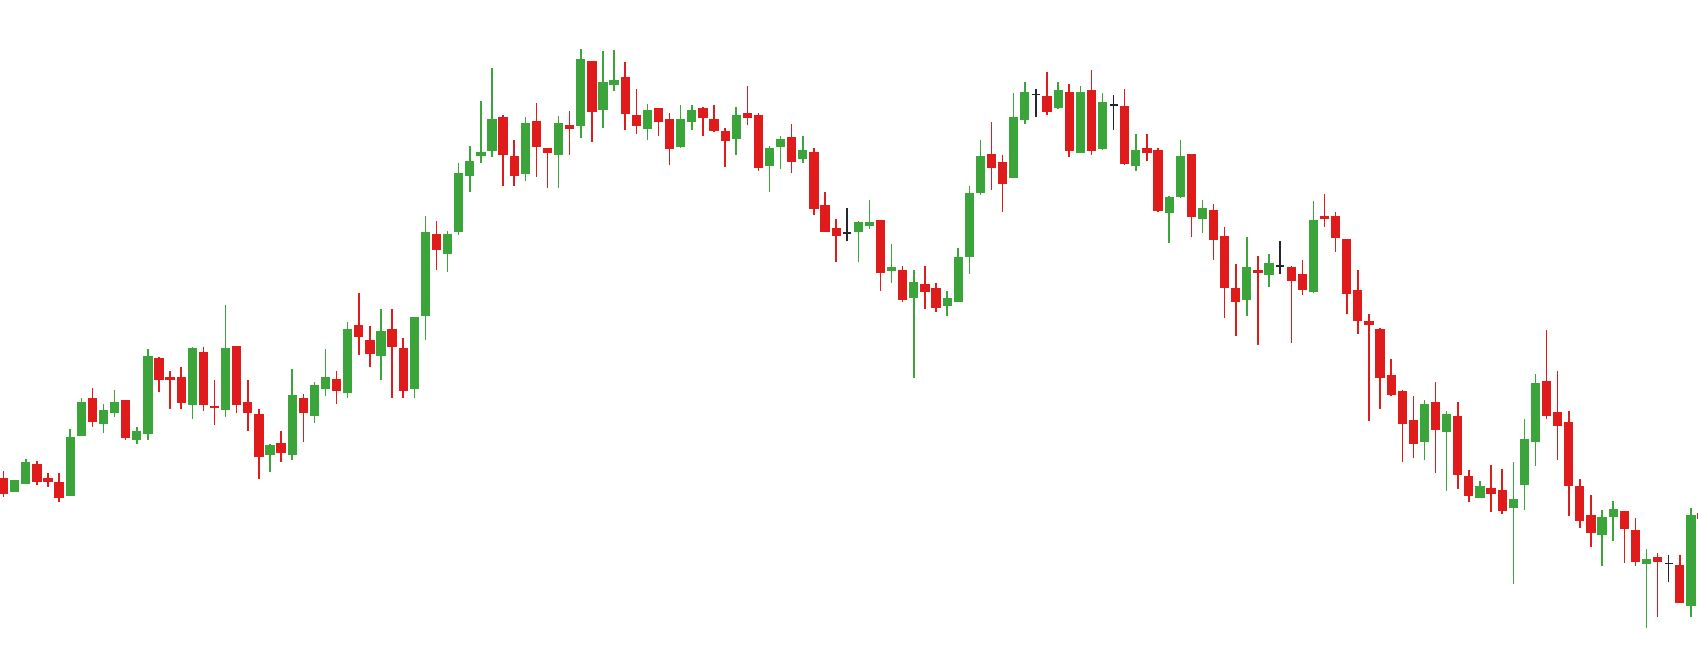buy: (117, 388, 299, 477)
sell: (1431, 328, 1554, 480), (484, 51, 598, 157), (1242, 195, 1342, 288)
